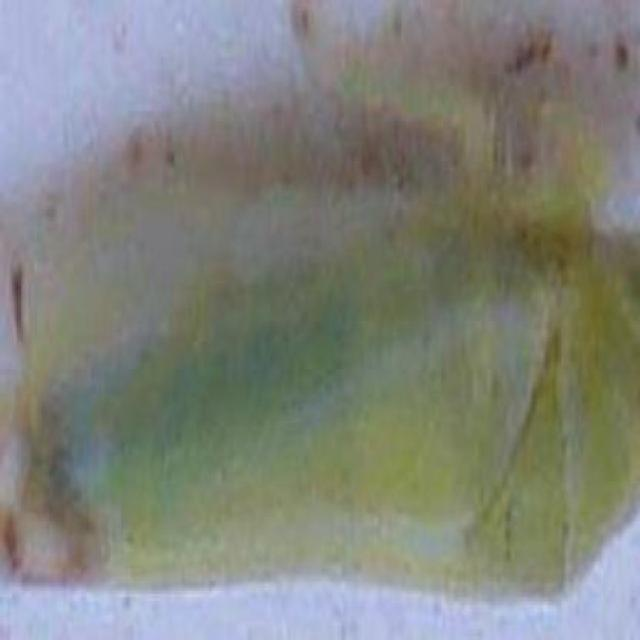green-leafhopper: (1, 188, 640, 594)
